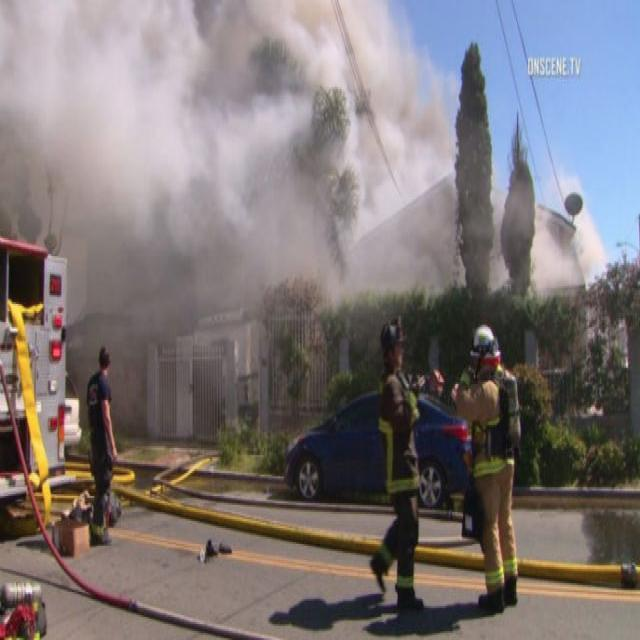Smoke: (17, 0, 488, 320)
